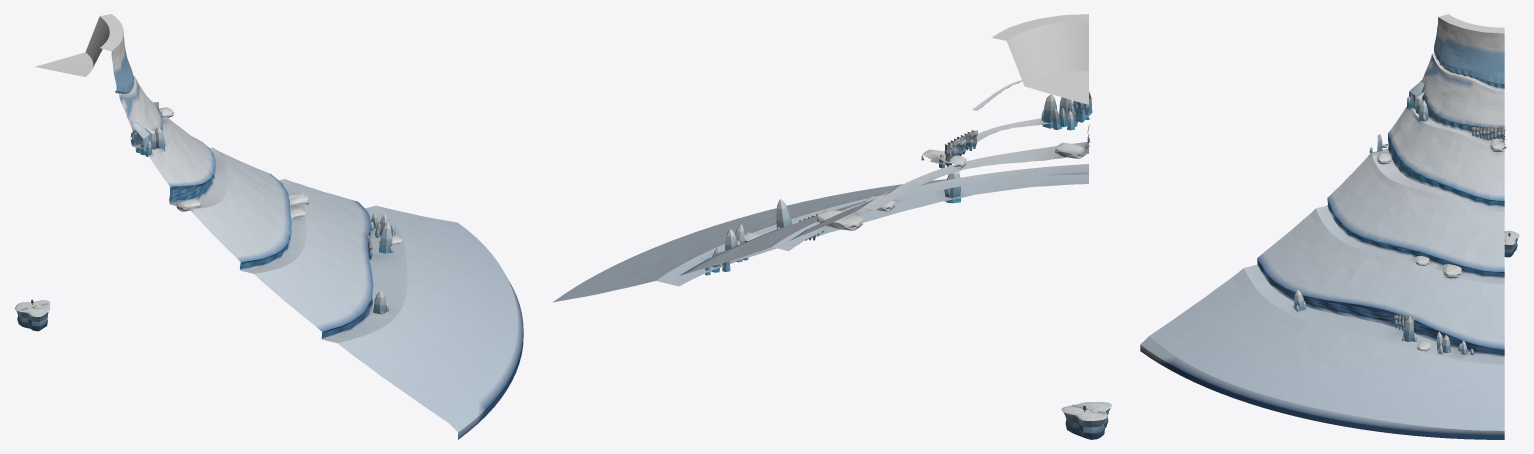
Rendered from glacier-s2-YB5cMWHY.glb.
3 views of the same model, side by side, from view 1: azimuth 30°, elevation 25°; view 2: azimuth 150°, elevation 25°; view 3: azimuth 270°, elevation 25° (orthographic). The views are drawn at different scales.
Parts seen in each view (by area): view 1: sc_landmark_5, sc_drift_0; view 2: sc_landmark_5, sc_drift_0; view 3: sc_landmark_5.
Boxes of the visible parts, x1,y1,x2,y2 form: sc_landmark_5: (35, 14, 523, 439); sc_drift_0: (14, 299, 50, 331); sc_landmark_5: (552, 14, 1092, 302); sc_drift_0: (1061, 402, 1111, 439); sc_landmark_5: (1140, 14, 1506, 439).
Bounding box in the file's own units: 433 × 286 × 376.
